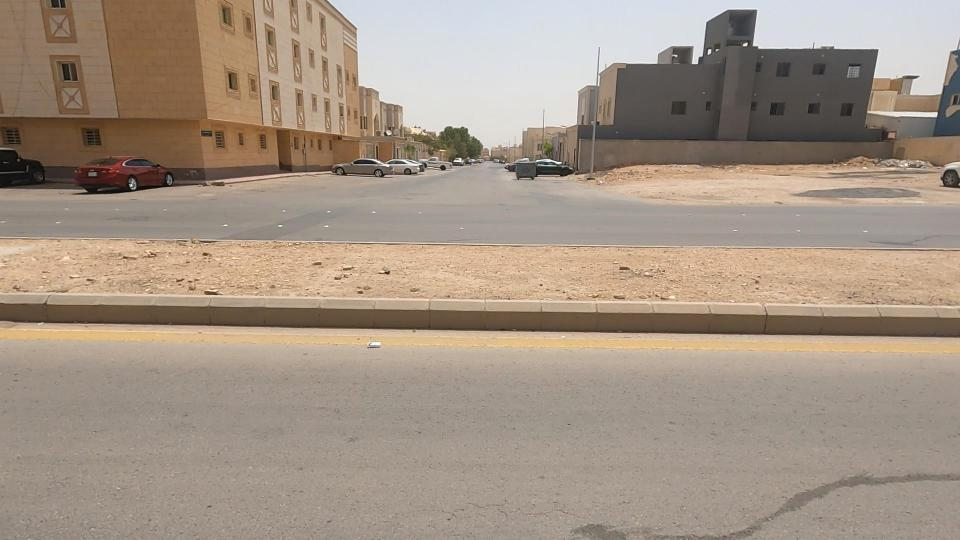CLUTTER_SIDEWALK: (0, 206, 602, 328), (345, 217, 930, 322)
GARBAGE: (332, 321, 400, 357)
